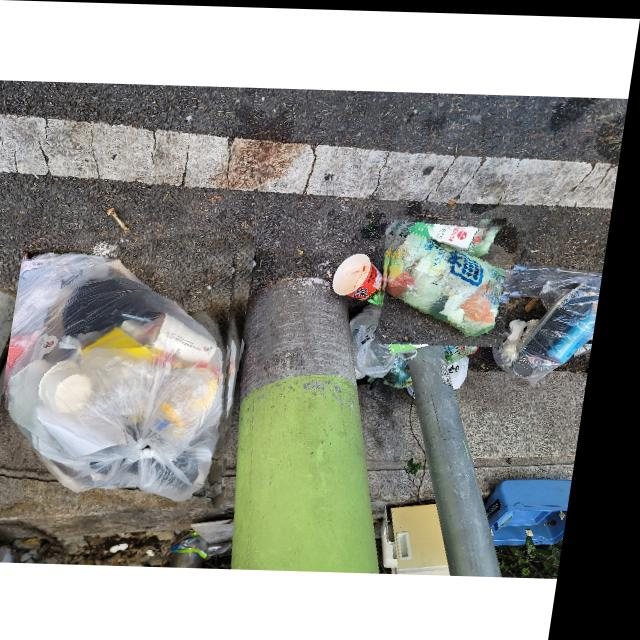general_trashbag: (389, 221, 526, 340)
other_trashbag: (12, 233, 243, 504)
